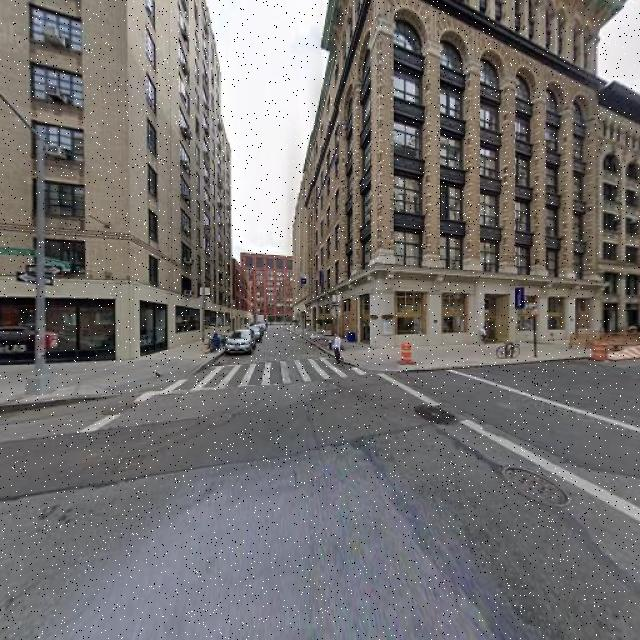Building: (315, 1, 593, 350), (1, 1, 223, 368)
